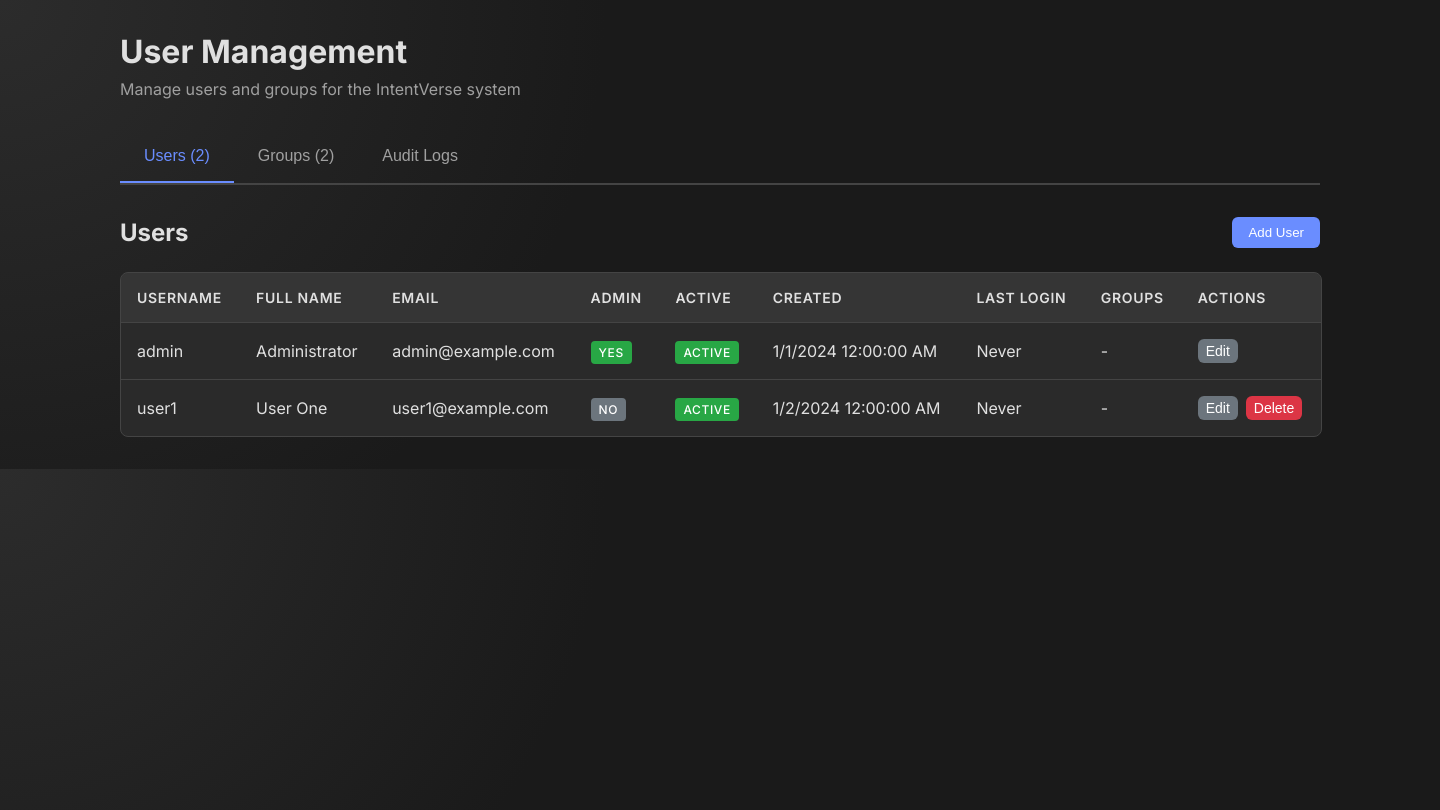
it: UsersPage › Groups Management › displays groups list when groups tab is selected
Check: the column heading "Groups" is shown, box [1085,273,1182,322]
Click the button "Groups (2)". click: {"x": 296, "y": 157}
box: [234,131,358,183]
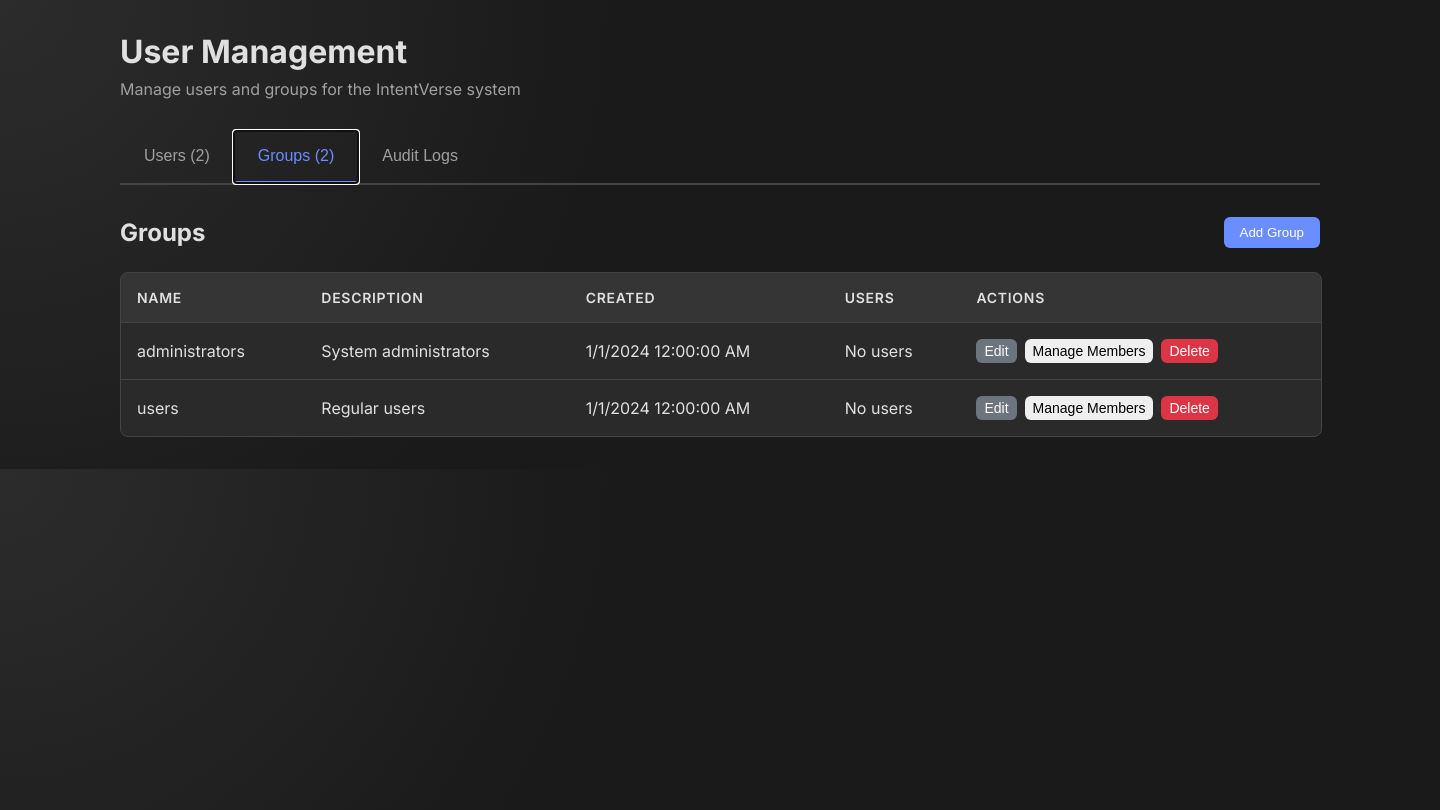
Check: the text "administrators" is shown, box [121,322,305,380]
Check: the text "users" is shown, box [121,380,305,436]
Check: the text "System administrators" is shown, box [305,322,570,380]
